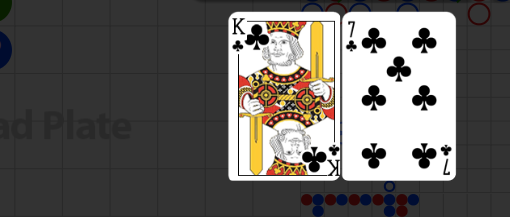7C: (345, 19, 359, 54)
KC: (230, 16, 249, 58)
